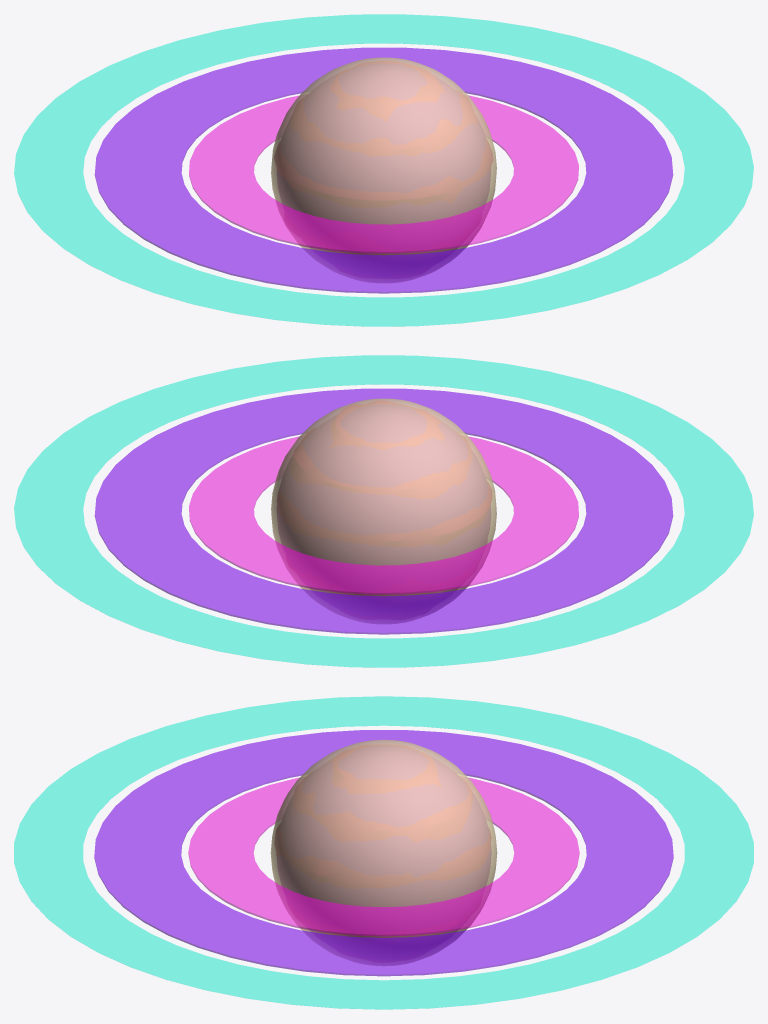
Rendered from planet4.glb.
The picture shows the model from 3 angles, top to bottom: view 1: azimuth 30°, elevation 25°; view 2: azimuth 150°, elevation 25°; view 3: azimuth 270°, elevation 25°; orthographic projection.
Parts seen in each view (by area): view 1: Tube.2, Tube.1, Sphere.1, Tube, Sphere, Sphere.2; view 2: Tube.2, Tube.1, Sphere.1, Tube, Sphere, Sphere.2; view 3: Tube.2, Tube.1, Sphere.1, Tube, Sphere, Sphere.2.
Part boxes in pixels (box(x1,y1,x2,y2)): Tube.2: box(14, 14, 753, 326); Tube.1: box(94, 47, 673, 293); Sphere.1: box(271, 57, 496, 282); Tube: box(189, 95, 578, 253); Sphere: box(277, 64, 490, 250); Sphere.2: box(276, 61, 490, 254); Tube.2: box(14, 355, 753, 667); Tube.1: box(94, 388, 673, 634); Sphere.1: box(271, 398, 496, 623); Tube: box(189, 436, 578, 594); Sphere: box(277, 405, 490, 589); Sphere.2: box(277, 401, 490, 595); Tube.2: box(14, 696, 753, 1009); Tube.1: box(94, 730, 673, 976); Sphere.1: box(270, 739, 497, 965); Tube: box(188, 778, 579, 936); Sphere: box(279, 747, 490, 932); Sphere.2: box(275, 745, 489, 934).
Size of the model in its own units: 512 by 156 by 511.
